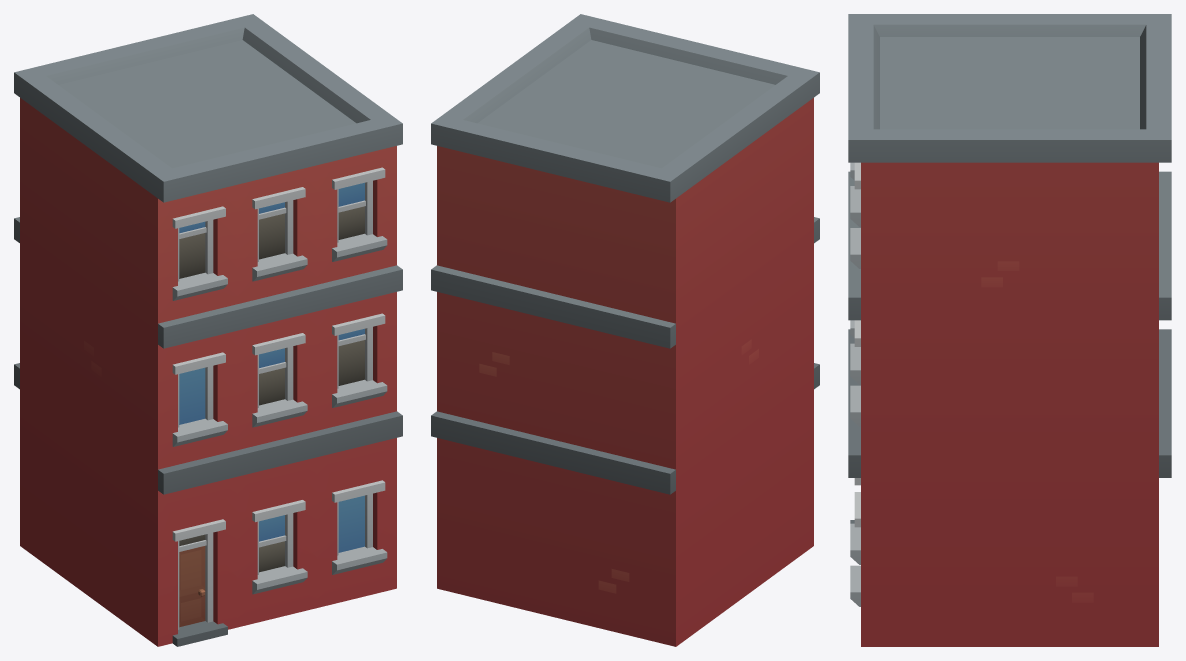
The model's file is city-building-c.glb.
3 renders of one model, left to right at view 1: azimuth 30°, elevation 25°; view 2: azimuth 150°, elevation 25°; view 3: azimuth 270°, elevation 25°, orthographic. The views are drawn at different scales.
Parts seen in each view (by area): view 1: building_C_withoutBase; view 2: building_C_withoutBase; view 3: building_C_withoutBase.
Boxes of the visible parts, box(x1,y1,x2,y2) form: building_C_withoutBase: box(14, 14, 402, 646); building_C_withoutBase: box(431, 14, 819, 646); building_C_withoutBase: box(848, 14, 1171, 646).
Bounding box in the file's own units: 1.21 × 2.25 × 1.3.
